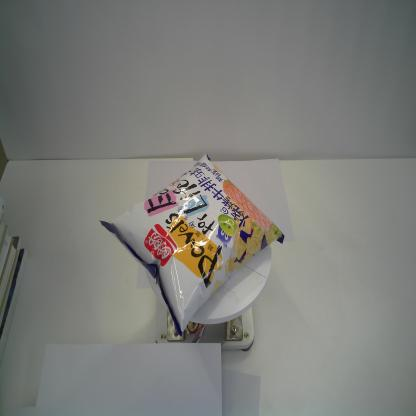Puffed Food: (98, 151, 286, 339)
